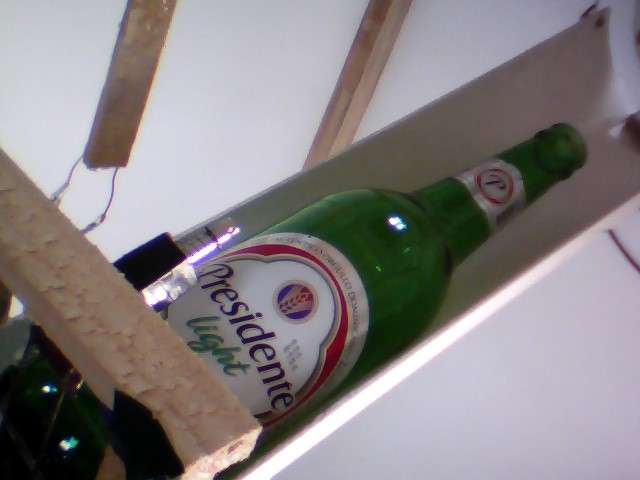vidrio: (218, 116, 595, 454)
